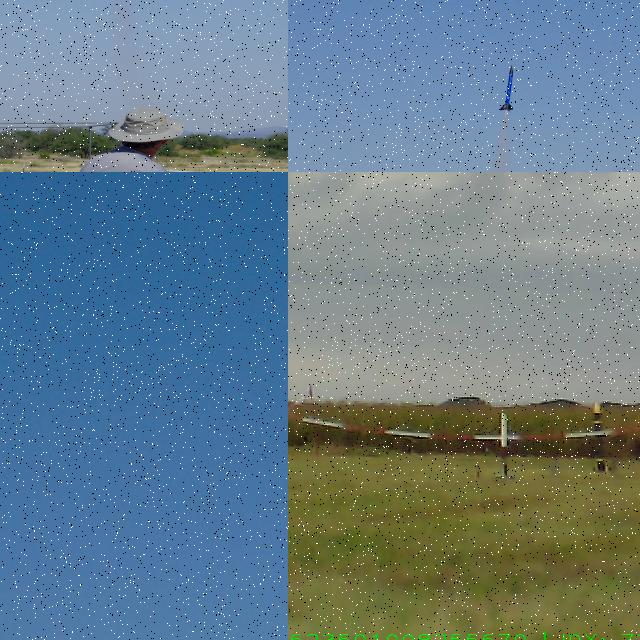Rocket: (590, 402, 617, 472), (500, 65, 514, 111), (499, 412, 511, 448)
